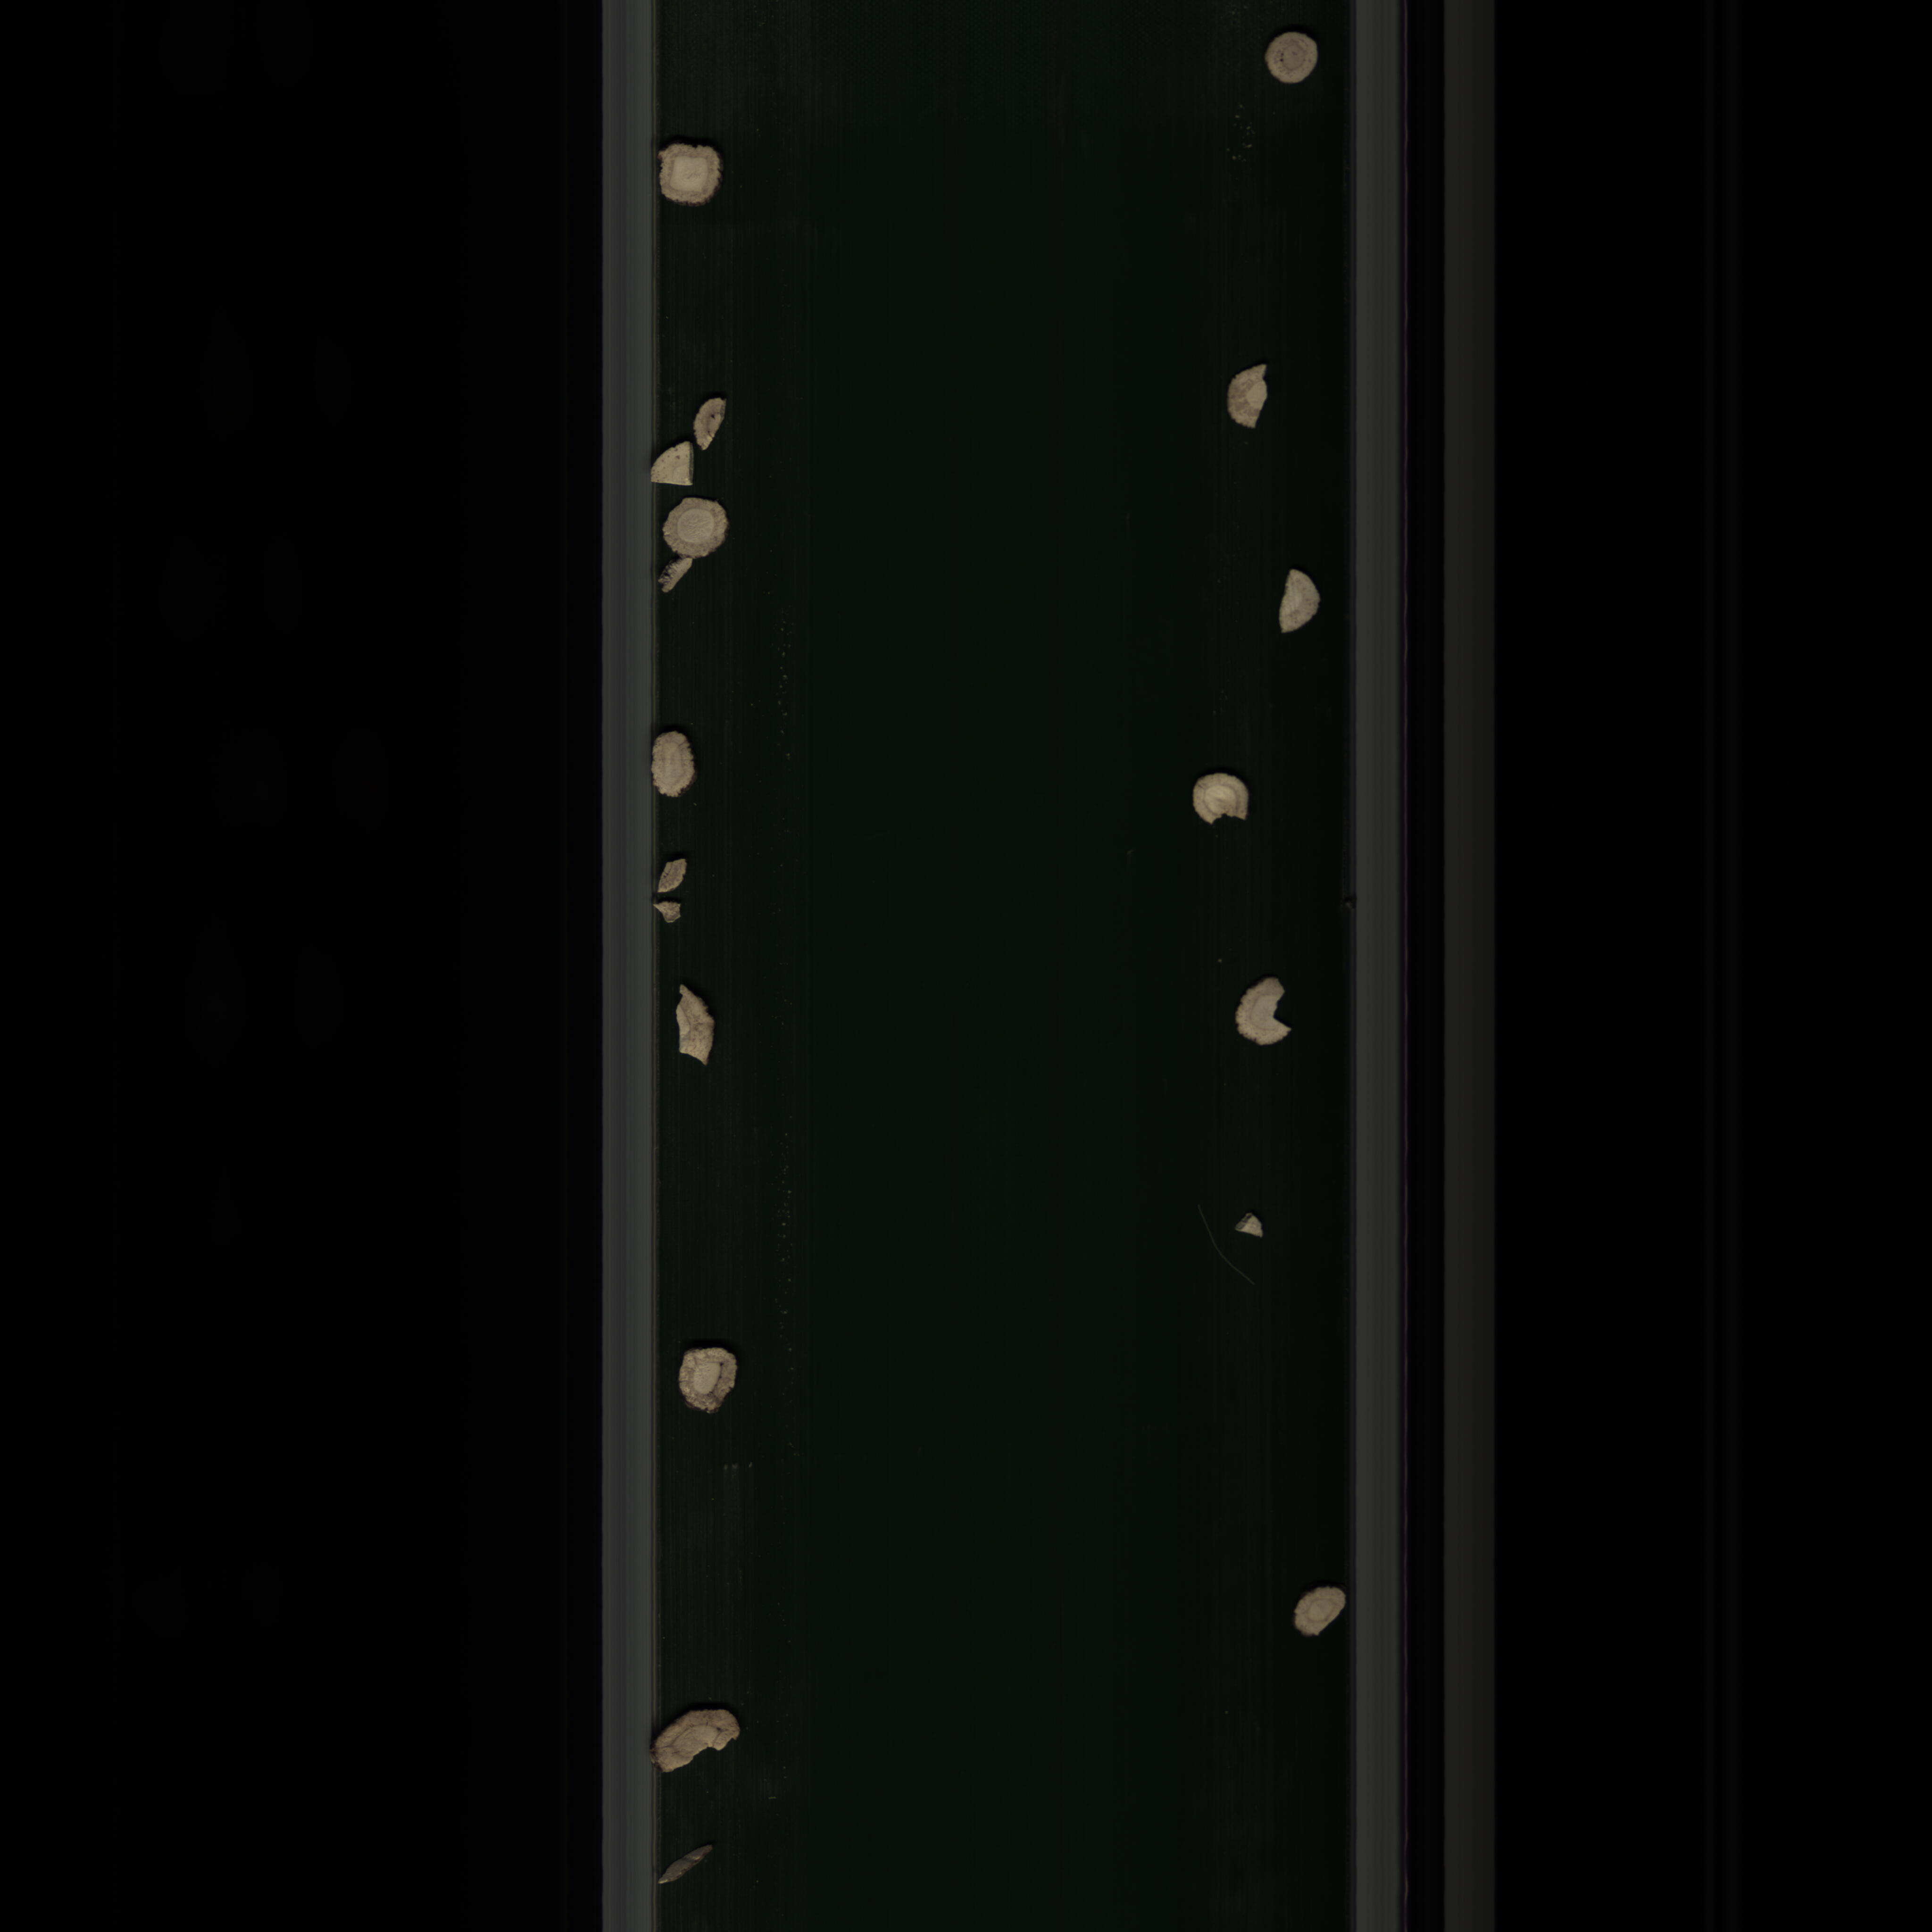bark: (655, 1838, 734, 1891)
debris: (649, 1702, 750, 1782), (671, 975, 731, 1083), (1215, 357, 1284, 448), (1233, 968, 1299, 1054), (1185, 763, 1254, 840), (1269, 564, 1330, 639), (653, 844, 692, 932), (695, 382, 731, 460), (651, 446, 704, 497), (1224, 1207, 1281, 1249), (658, 566, 701, 600)
moldy: (1263, 25, 1320, 90)
